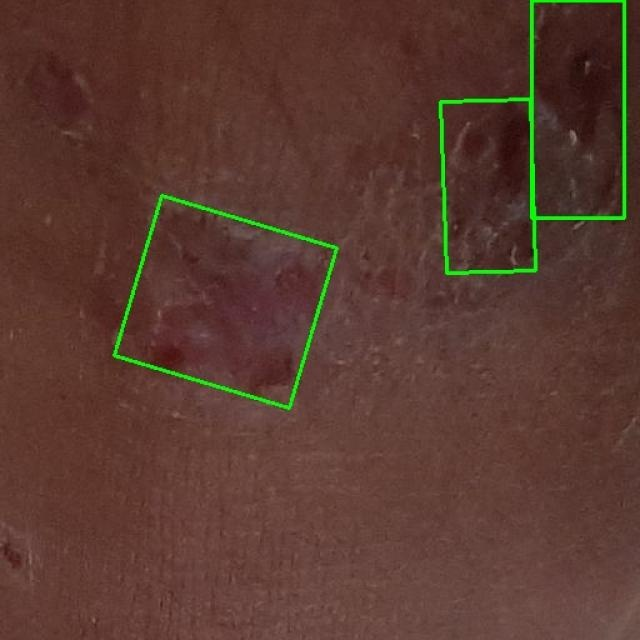Contact Dermatitis: (114, 196, 337, 408), (531, 0, 624, 218), (441, 99, 536, 273)
